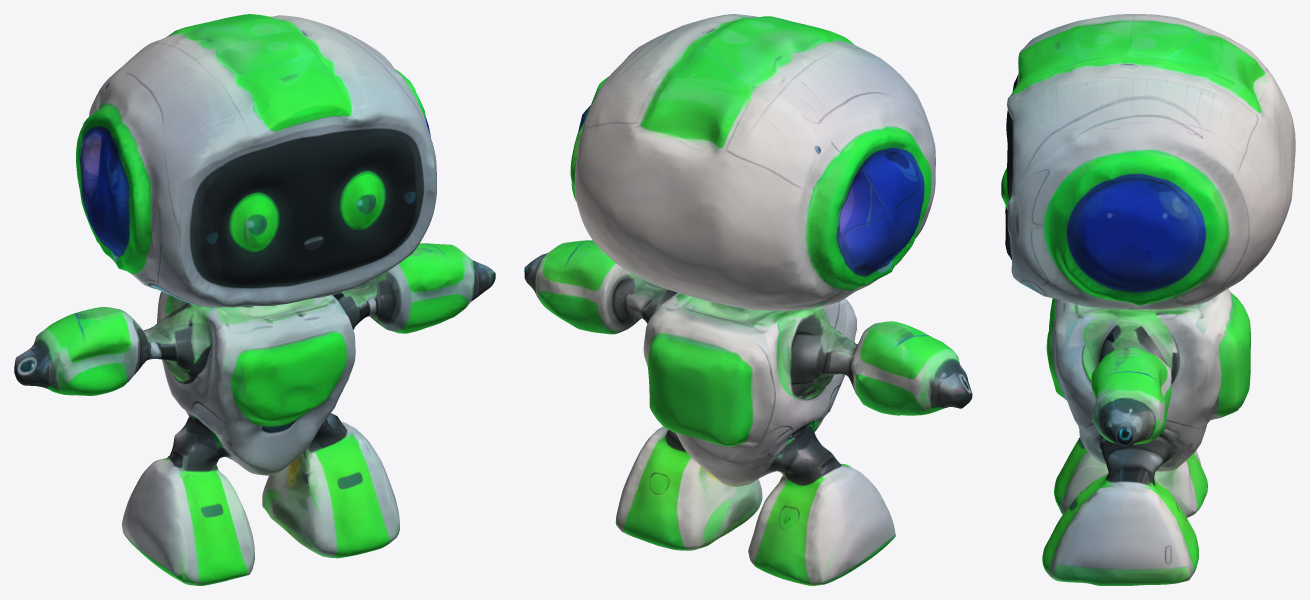
The model's file is Aethos_model.fbx.
3 renders of one model, left to right at view 1: azimuth 30°, elevation 25°; view 2: azimuth 150°, elevation 25°; view 3: azimuth 270°, elevation 25°, orthographic.
Visible parts, largest first — view 1: Mesh_0; view 2: Mesh_0; view 3: Mesh_0.
Part boxes in pixels (bbox=[...]): Mesh_0: bbox=[14, 14, 495, 585]; Mesh_0: bbox=[524, 14, 972, 585]; Mesh_0: bbox=[1001, 14, 1295, 585].
Bounding box in the file's own units: 113 × 120 × 63.31.
Materials: 1 (1 with a texture image).
